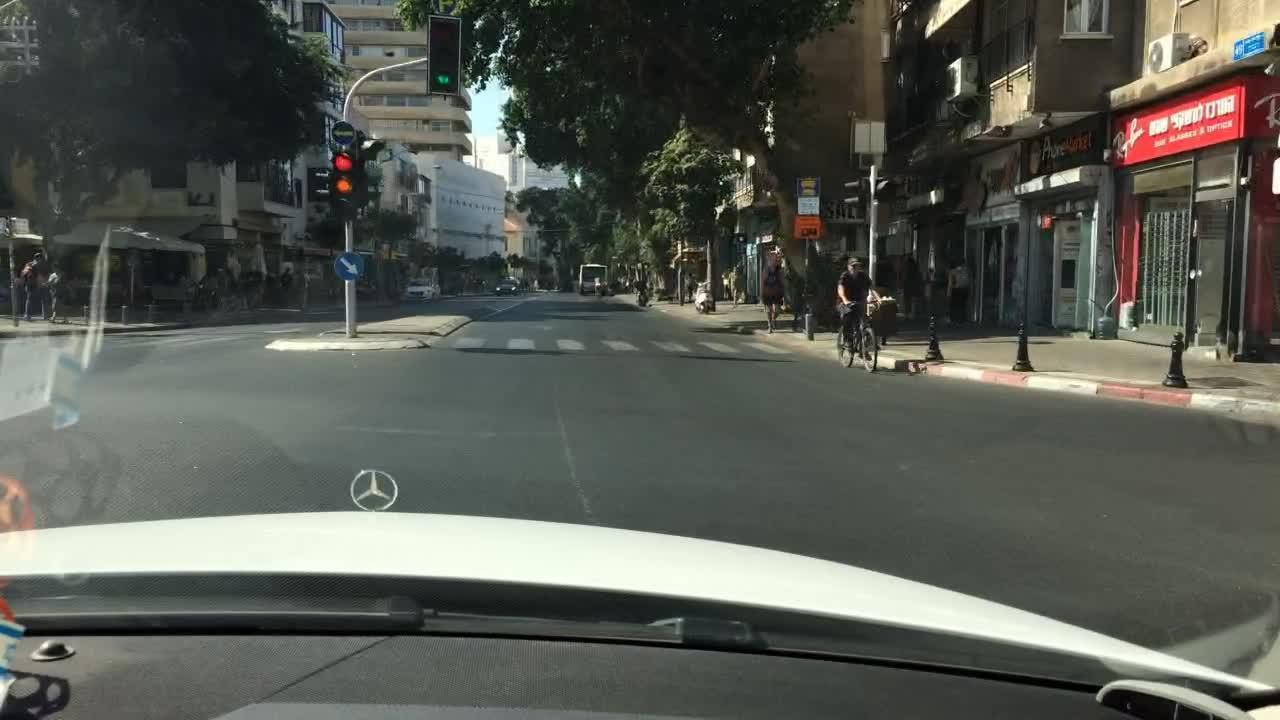Mercedes: (330, 444, 417, 519)
